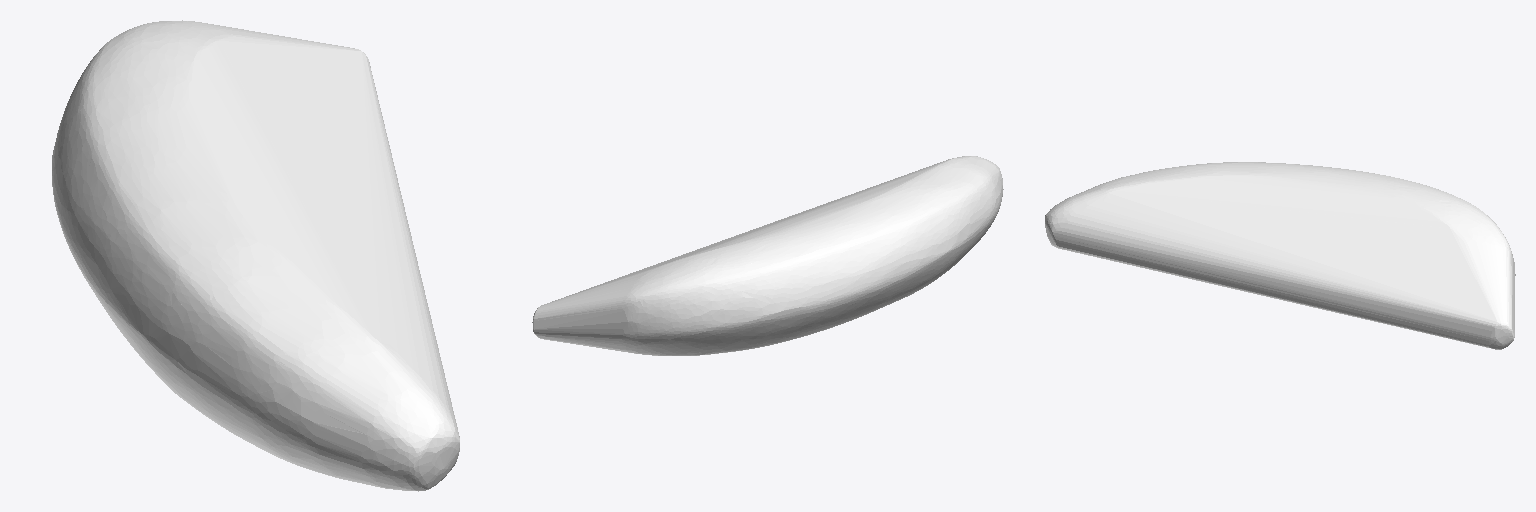
robot.urdf — textured:
<?xml version="1.0" ?>
<robot name="textured">
 <link name="baseLink">
   <contact>
     <lateral_friction value="1.5"/>
   </contact>
   <inertial>
     <origin rpy="0 0 0" xyz="-0.009936 0.004073 0.017127"/>
      <mass value="1.0"/>
      <inertia ixx="0.000000" ixy="-0.000000" ixz="0.000000" iyy="0.000000" iyz="-0.000000" izz="0.000000"/>
   </inertial>
   <visual>
     <origin rpy="0 0 0" xyz="0 0 0"/>
     <geometry>
       <mesh filename="banana_convex_hull.obj" scale="1.0 1.0 1.0"/>
     </geometry>
      <material name="white">
       <color rgba="1 1 1 1"/>
     </material>
   </visual>
   <collision>
     <origin rpy="0 0 0" xyz="0 0 0"/>
     <geometry>
       <mesh filename="banana_convex_hull.obj" scale="1.0 1.0 1.0"/>
     </geometry>
   </collision>
 </link>
</robot>

--- Facts derived from the render (not from the file) ---
The picture shows the robot from 3 angles, left to right: view 1: azimuth 30°, elevation 25°; view 2: azimuth 150°, elevation 25°; view 3: azimuth 270°, elevation 25°; orthographic projection.
Robot: textured — 1 links, 0 joints (none); root link baseLink; default pose: every joint at zero.
Visible links, largest first — view 1: baseLink; view 2: baseLink; view 3: baseLink.
Boxes of the visible links, x1,y1,x2,y2 form: baseLink: (52,20,459,491); baseLink: (532,156,1003,355); baseLink: (1045,162,1515,349).
Bounding box of the posed robot: 0.1089 × 0.1784 × 0.0367 m (x, y, z).
1 mesh visuals loaded from 1 distinct referenced files (1 OBJ).